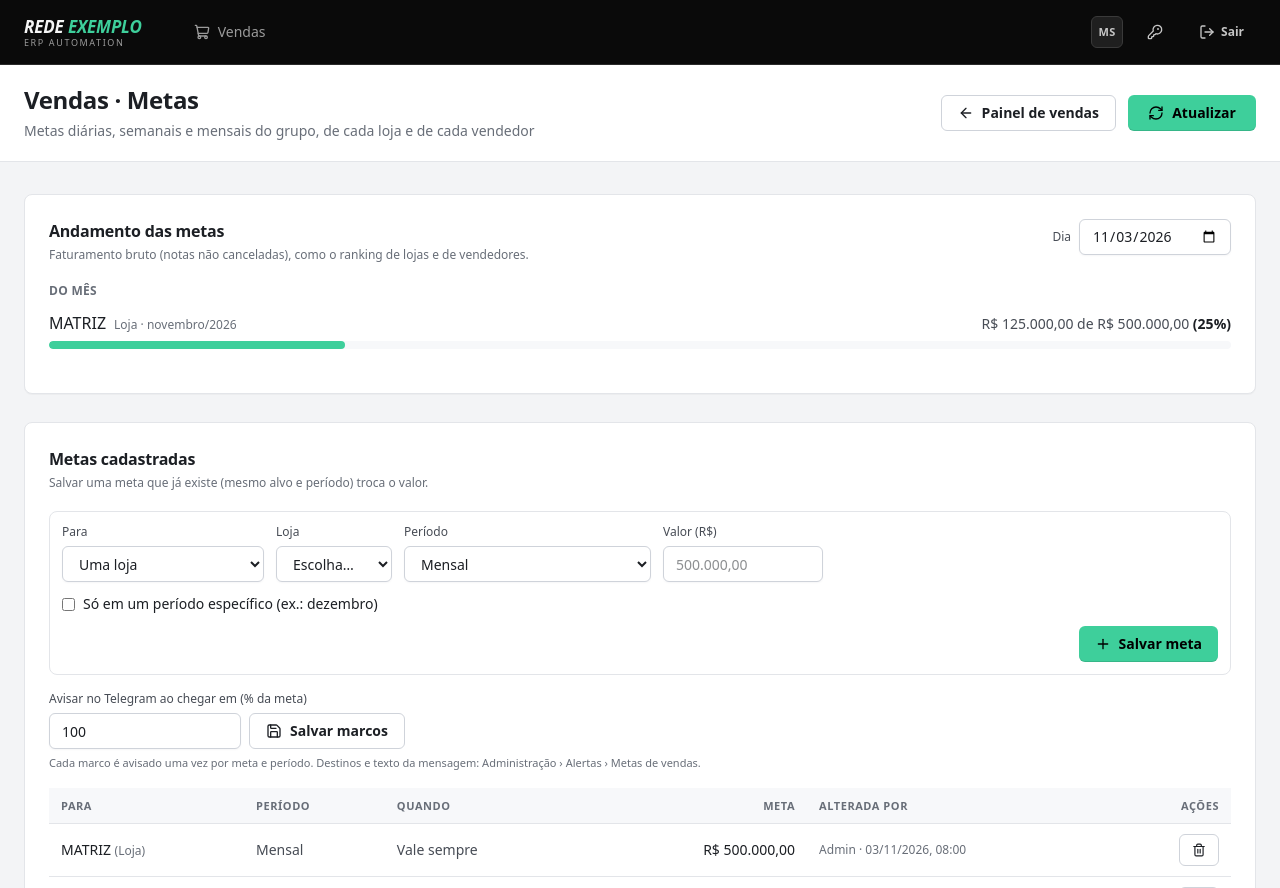
Scenario: MetasPage › ADMIN muda os marcos e exclui uma meta
The image size is (1280, 888).
Replace the text in the field labelled "Avisar no Telegram ao chegar em (% da meta)" with "50, 100" at [145, 731], box [49,713,241,749]
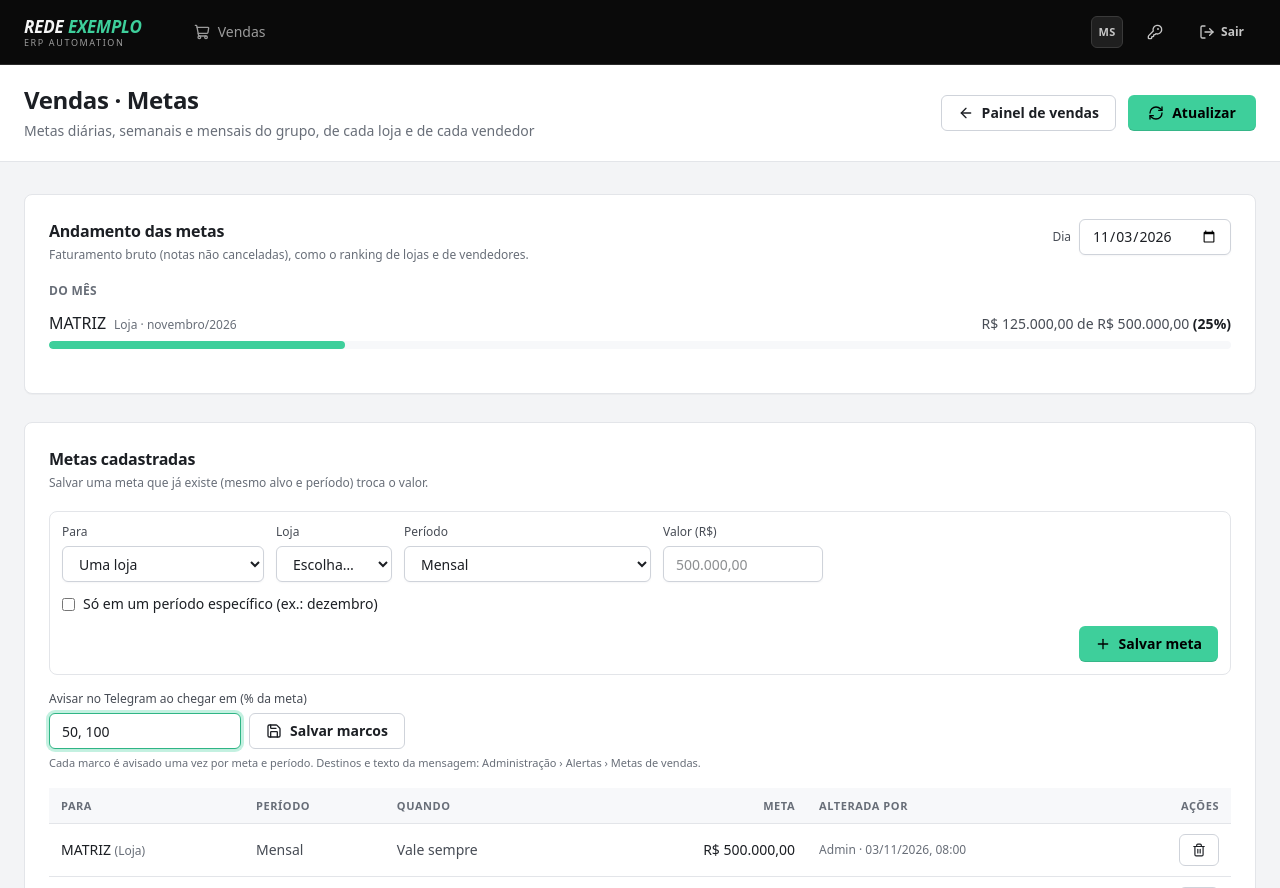
Click the button "Salvar marcos" at [327, 731], box [249,713,405,749]
(page scrolled)
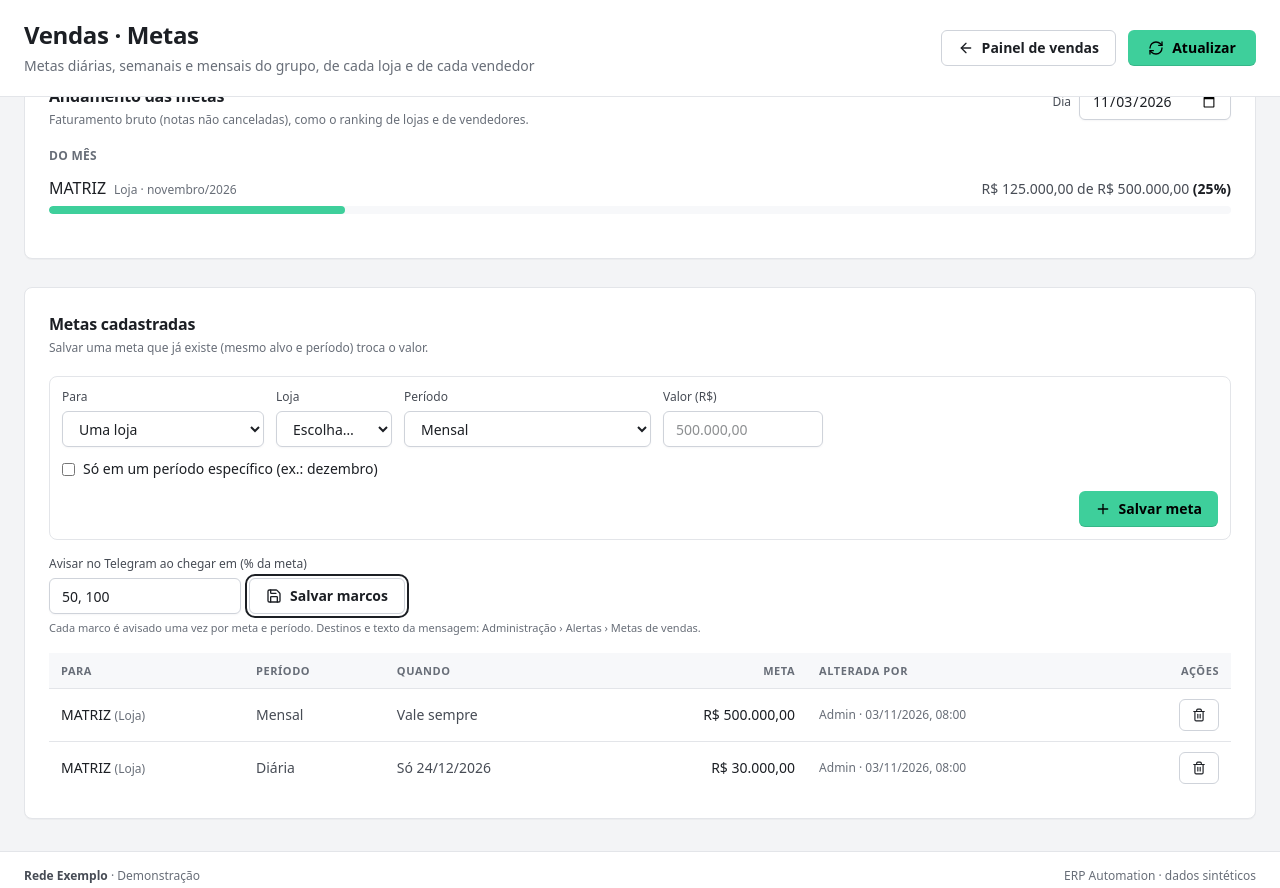
Click the button named "Excluir meta de MATRIZ" in the row of "Mensal" at [1199, 715], box [1179,699,1219,731]
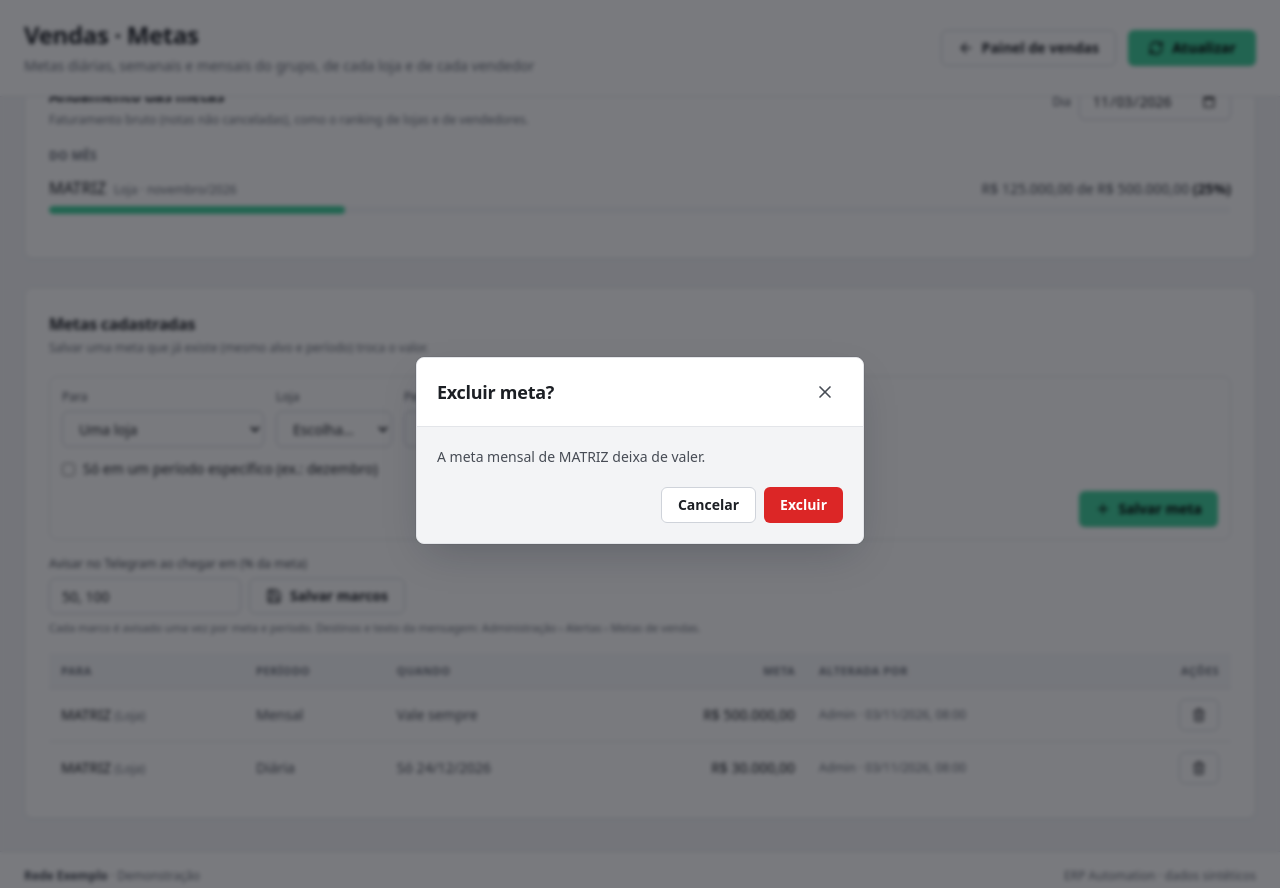
Click the button "Excluir" at [804, 504], box [764,486,843,522]
(page scrolled)
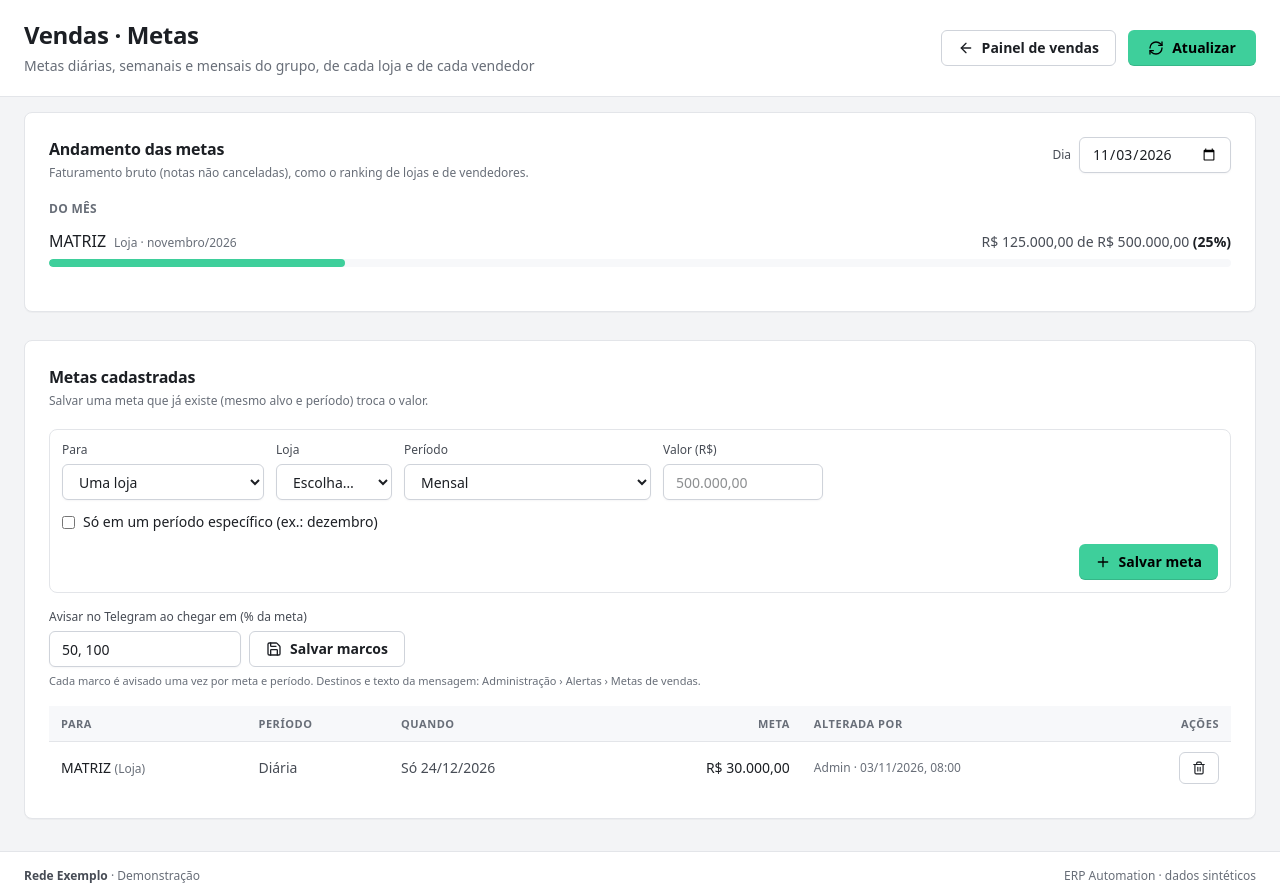
Expected: the text "Meta de MATRIZ excluída." is shown, [24,38,1256,84]
